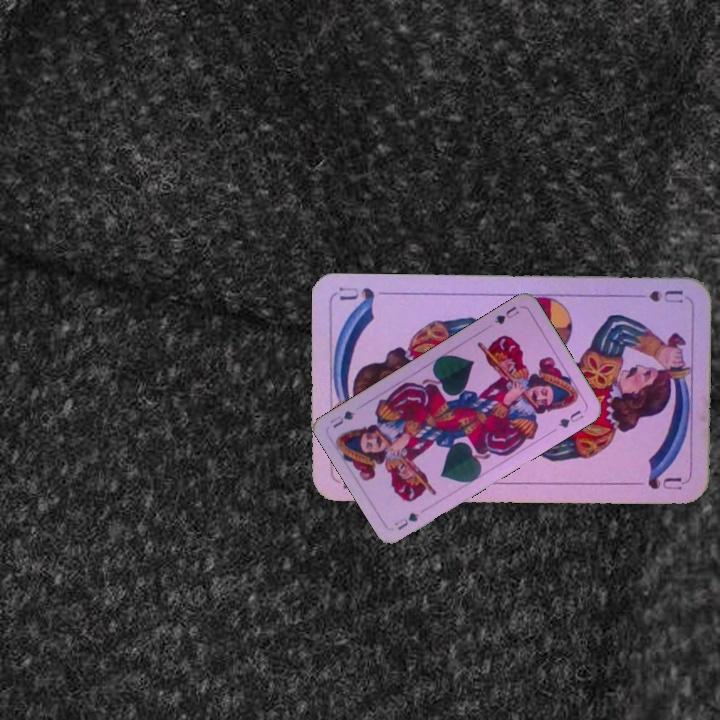GU: (490, 302, 522, 327), (390, 508, 422, 533)
SU: (626, 286, 685, 305)
